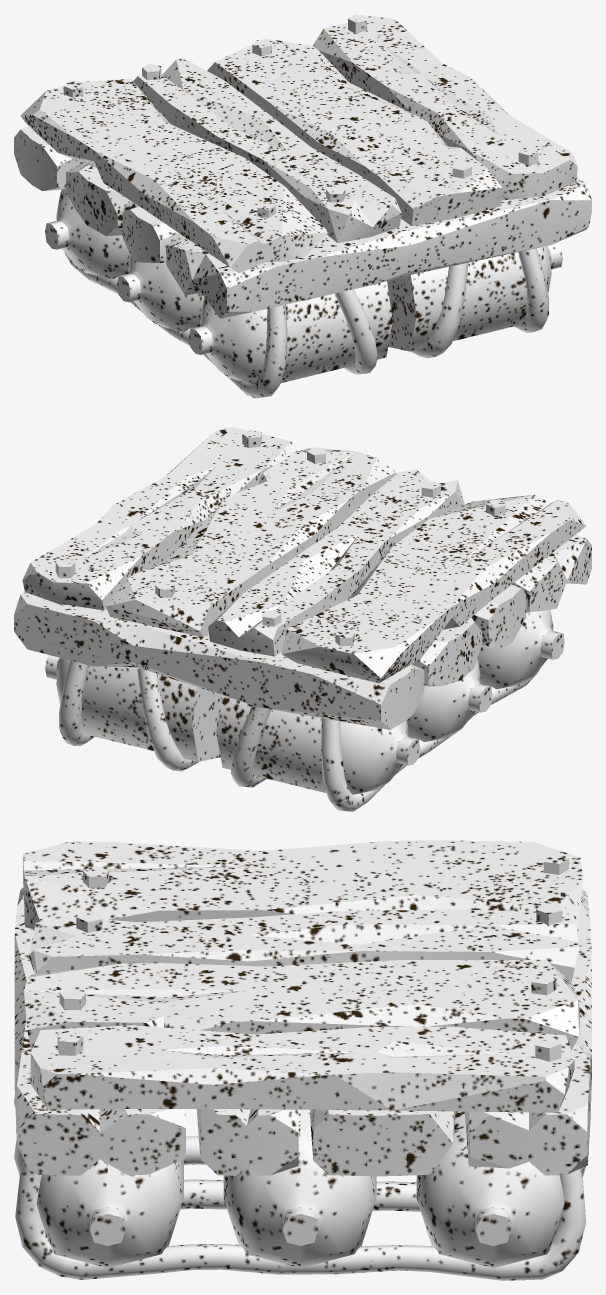
The model's file is Ra2sft.fbx.
3 views of the same model, one above another, from view 1: azimuth 30°, elevation 25°; view 2: azimuth 150°, elevation 25°; view 3: azimuth 270°, elevation 25° (orthographic). The views are drawn at different scales.
Parts seen in each view (by area): view 1: TopWood, BottomWood, Bottles, Rope, bolt; view 2: TopWood, BottomWood, Bottles, Rope, bolt; view 3: TopWood, BottomWood, Bottles, Rope, bolt.
Part boxes in pixels (box(x1,y1,x2,y2)): TopWood: box(20, 16, 577, 273); BottomWood: box(14, 126, 591, 318); Bottles: box(45, 189, 562, 383); Rope: box(64, 248, 548, 398); bolt: box(63, 14, 538, 217); TopWood: box(22, 427, 586, 683); BottomWood: box(14, 503, 591, 729); Bottles: box(45, 609, 564, 794); Rope: box(59, 660, 540, 811); bolt: box(55, 430, 505, 646); TopWood: box(22, 840, 582, 1112); BottomWood: box(14, 888, 591, 1176); Bottles: box(36, 1109, 564, 1267); Rope: box(14, 1095, 585, 1280); bolt: box(57, 853, 568, 1061).
Size of the model in its own units: 100 by 47.05 by 100.
